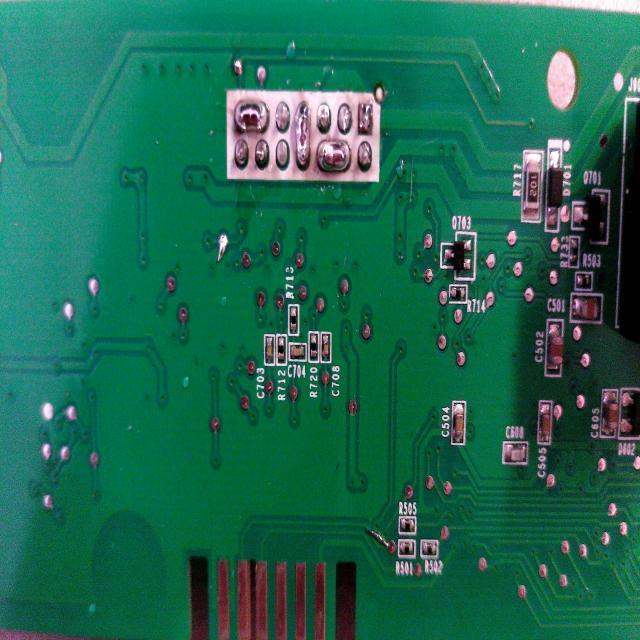Soldering shorted: (315, 137, 353, 180), (232, 102, 268, 136), (295, 104, 311, 171)
